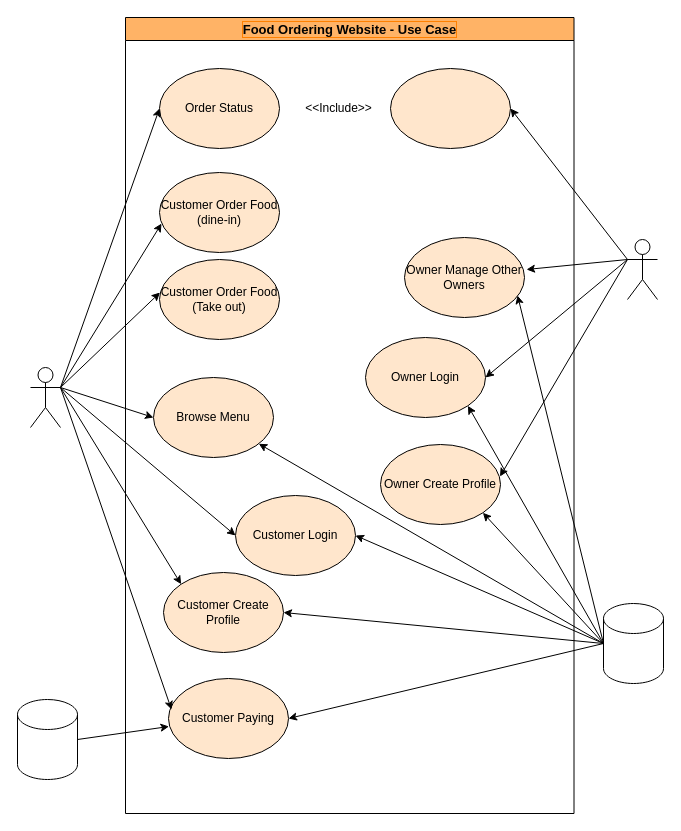
The diagram is 681 pixels wide and 831 high, and some of its shapes have lost their labels. The box of each missing label's shape, as (x1, y1, x2, y2) in pixels:
Customer: (30, 366, 60, 428)
Database: (602, 602, 664, 684)
Owner: (626, 238, 658, 300)
Owner Process Orders: (390, 68, 510, 148)
Payment system: (16, 698, 78, 780)
